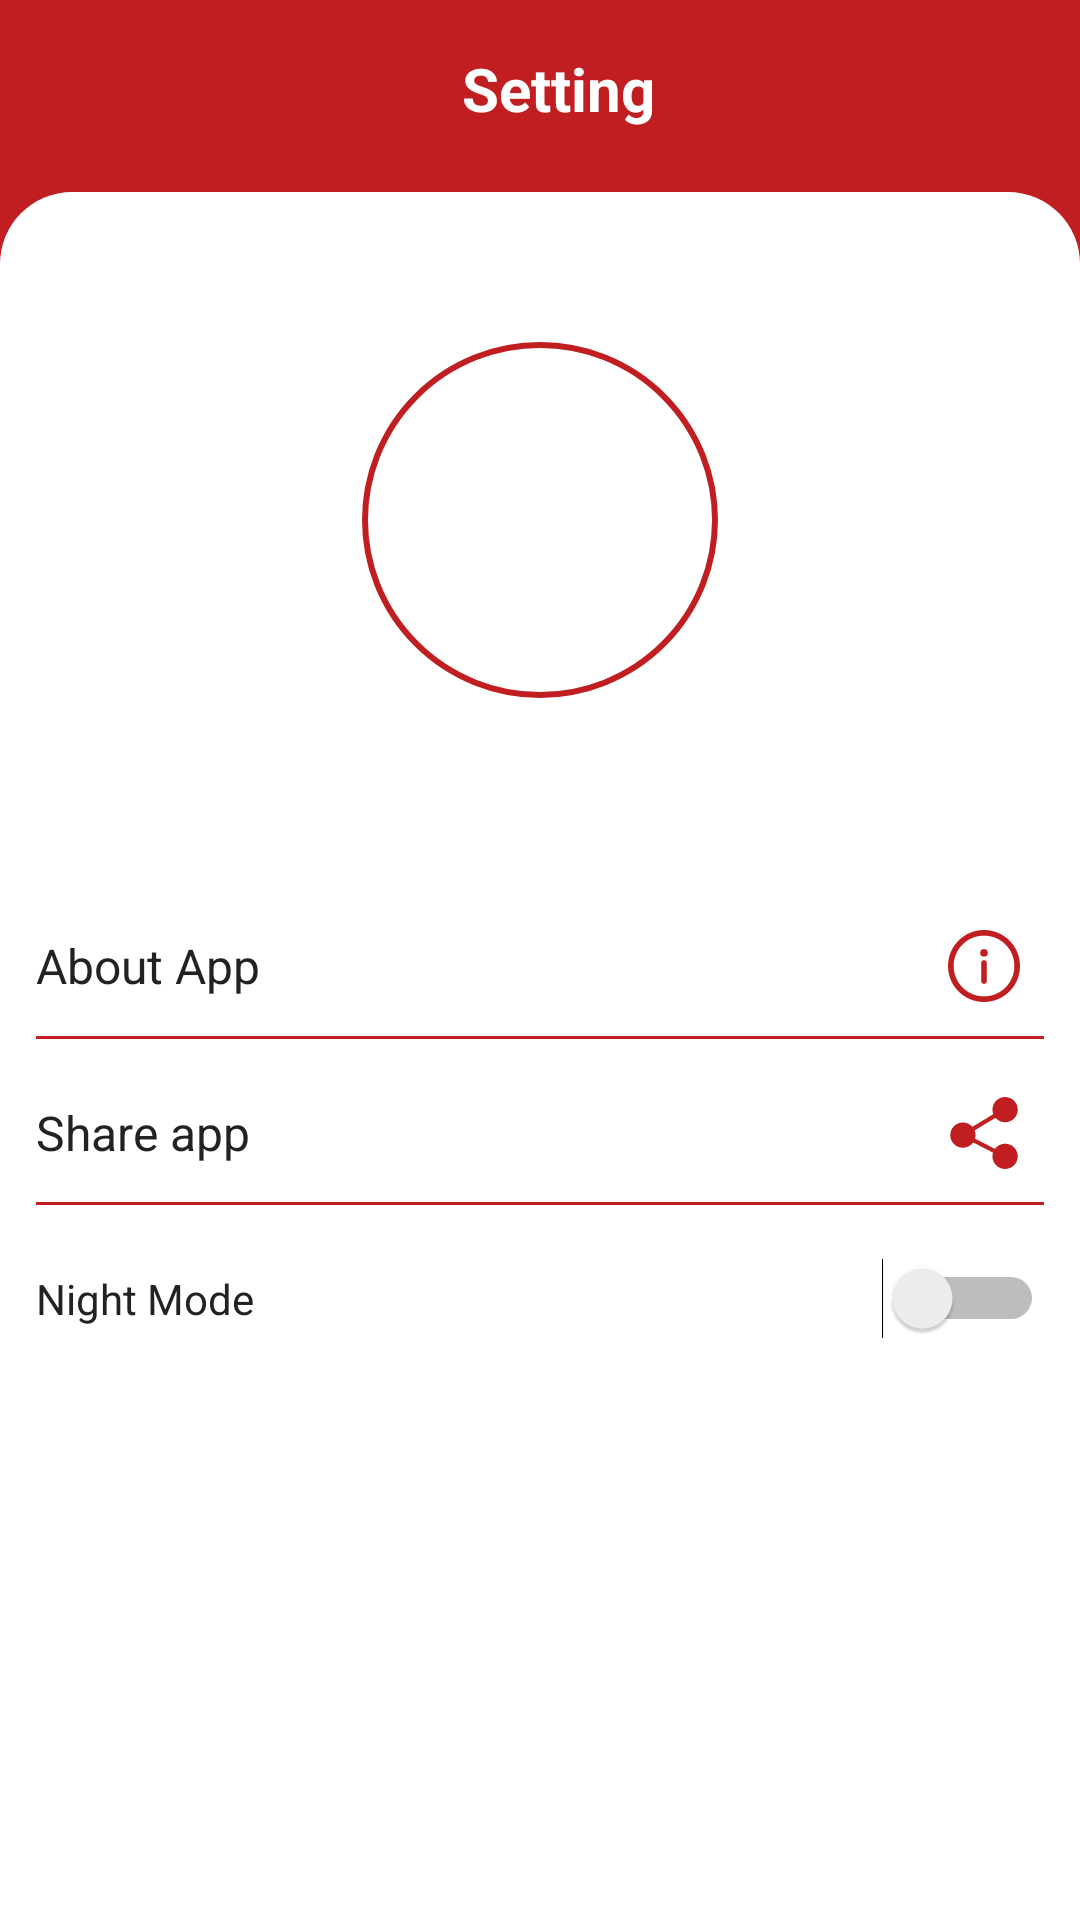

Icon click points for this 1080w x 1920h phone screenshot, format (x,y):
information: (984,966)
share: (984,1133)
